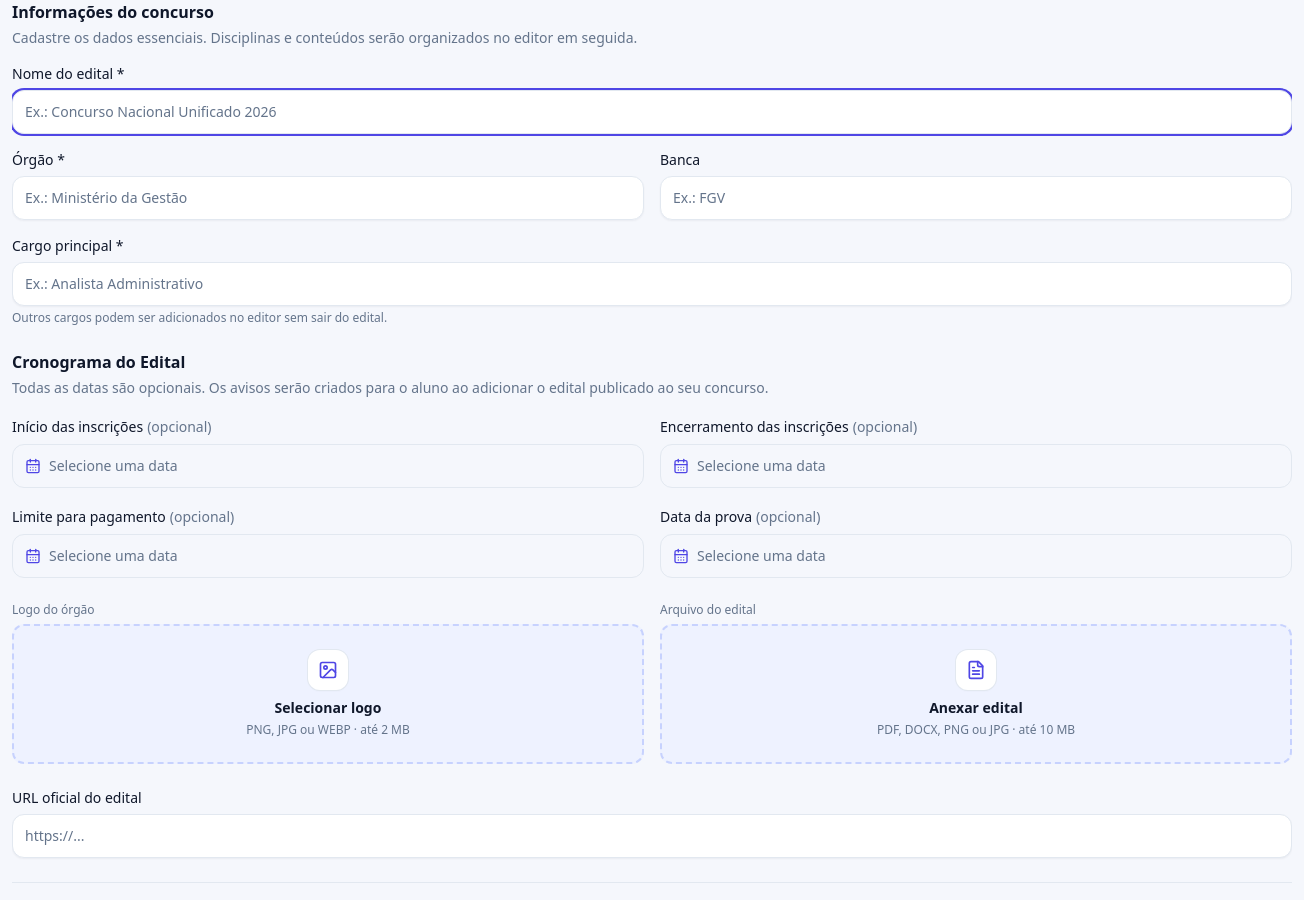
Test: EditalCreateForm › preserva os campos para uma nova tentativa quando a API falha
Type "Edital preservado" into the field labelled "Nome do edital *". click: (652,112)
box: x1=12 y1=90 x2=1292 y2=134
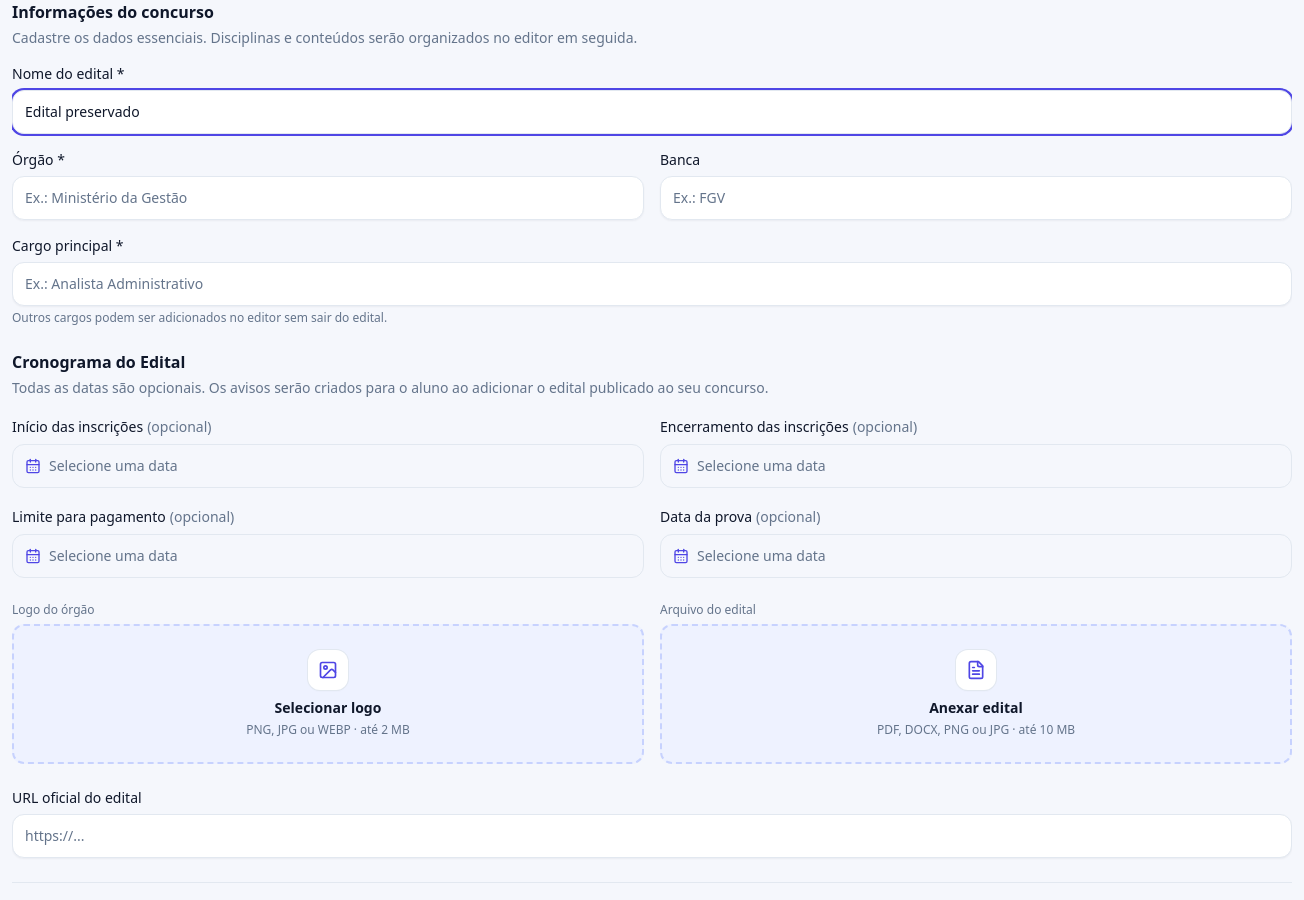
Type "Órgão preservado" into the field labelled "Órgão *". click: (328,198)
box: x1=12 y1=176 x2=644 y2=220
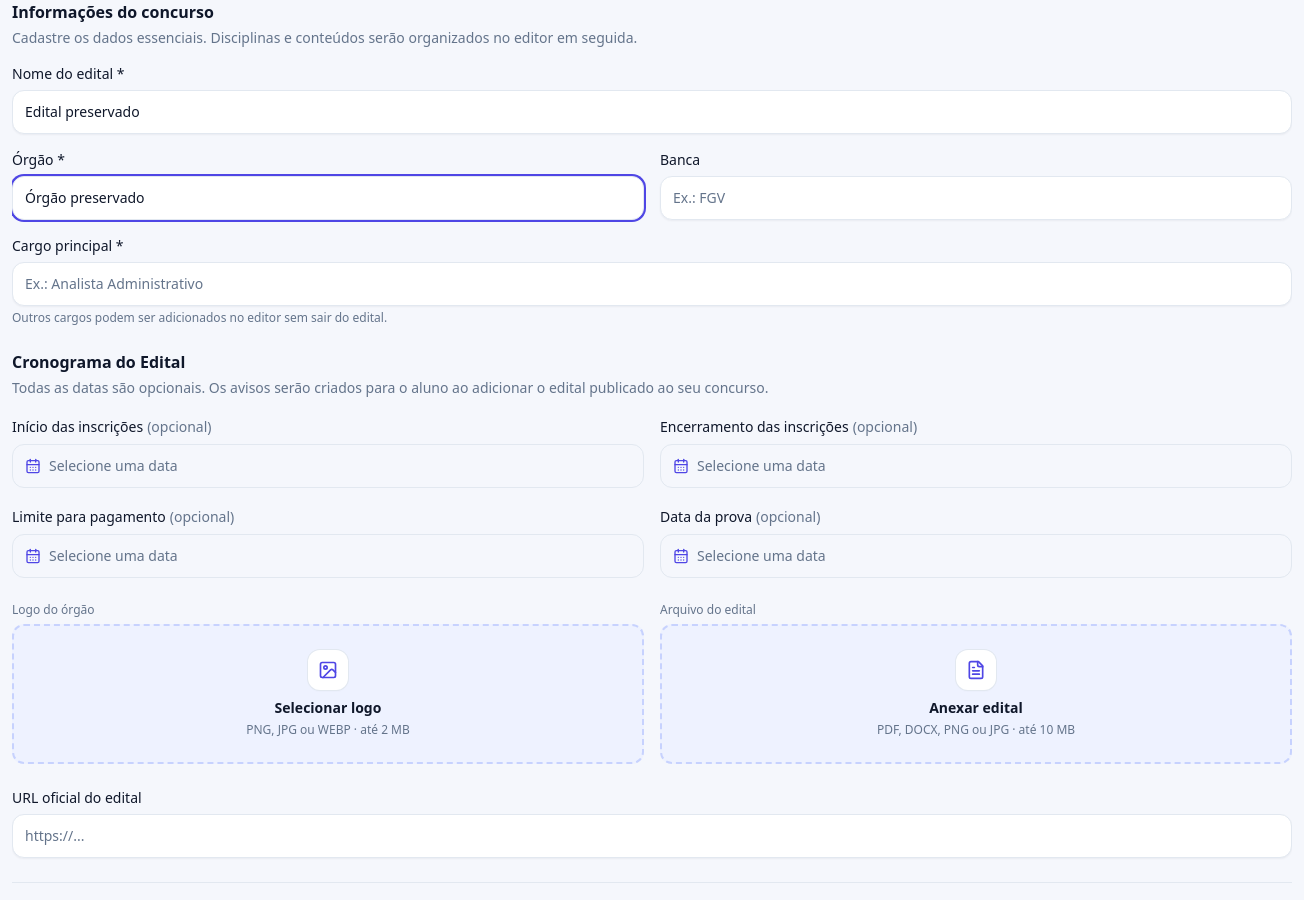
Type "Cargo preservado" into the field labelled "Cargo principal". click: (652,284)
box: x1=12 y1=262 x2=1292 y2=306
(page scrolled)
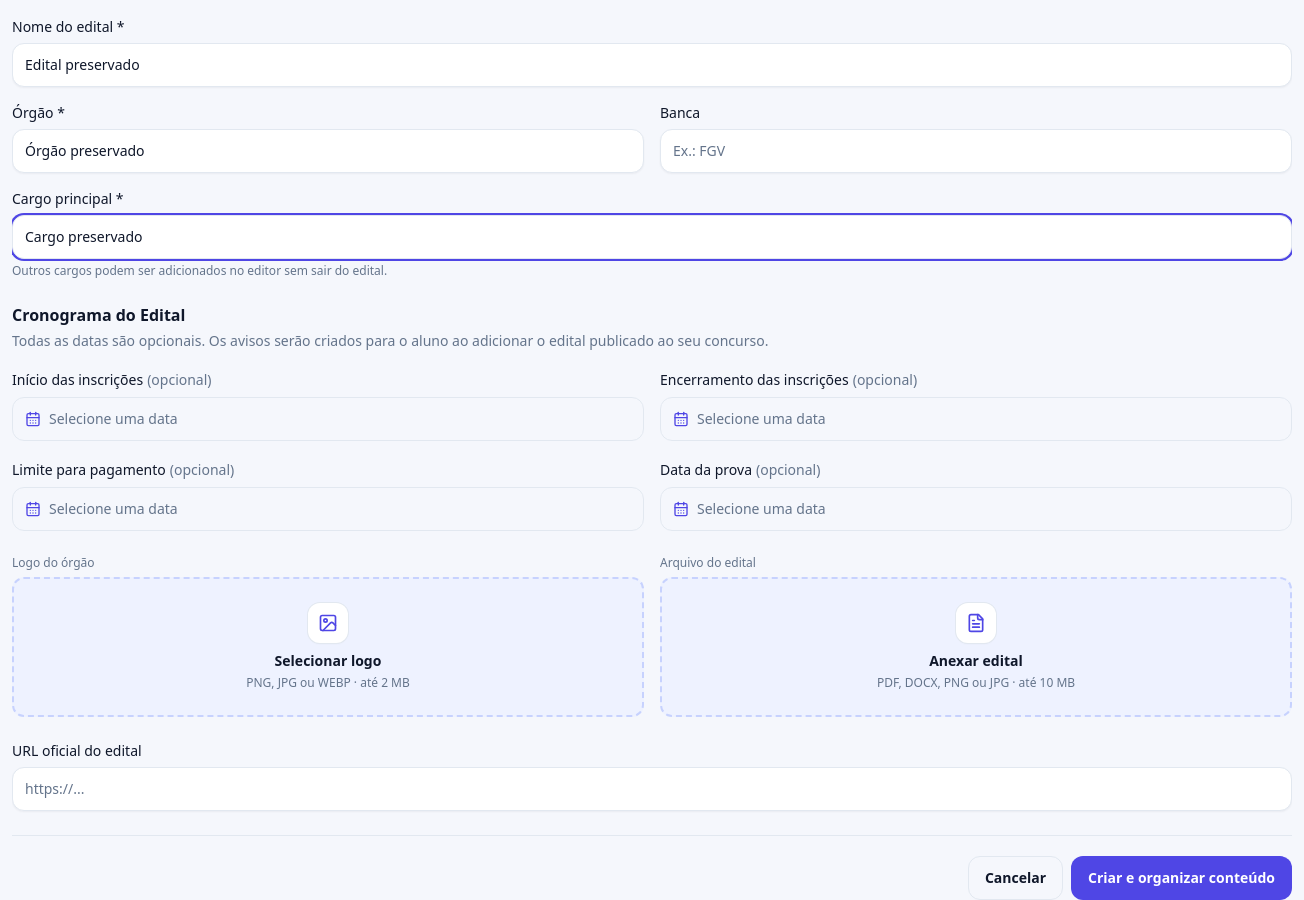
Click the button "Criar e organizar conteúdo". click: (1182,878)
box: x1=1071 y1=856 x2=1292 y2=899
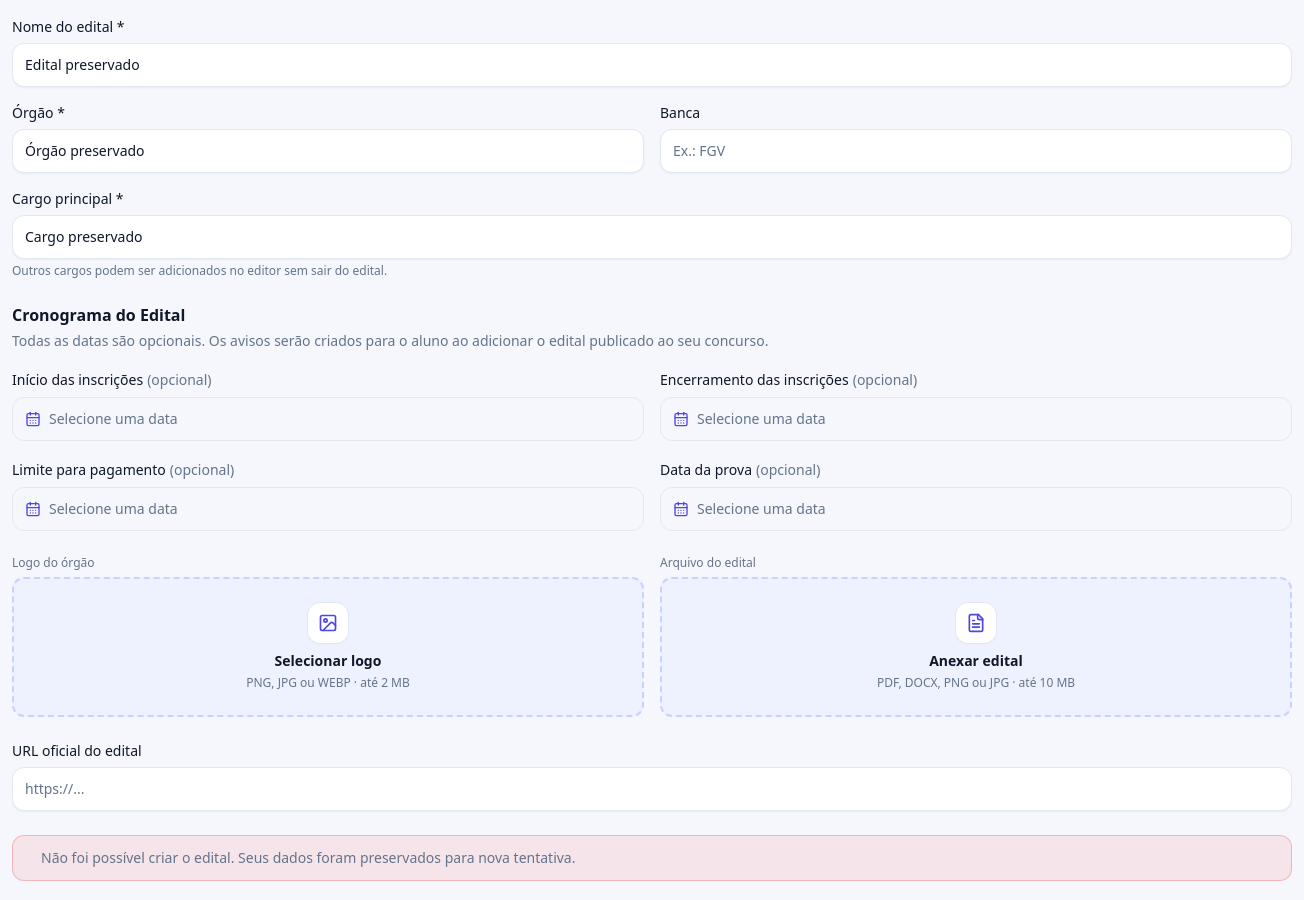
Now the message shows "dados foram preservados", box x1=234 y1=848 x2=576 y2=867
